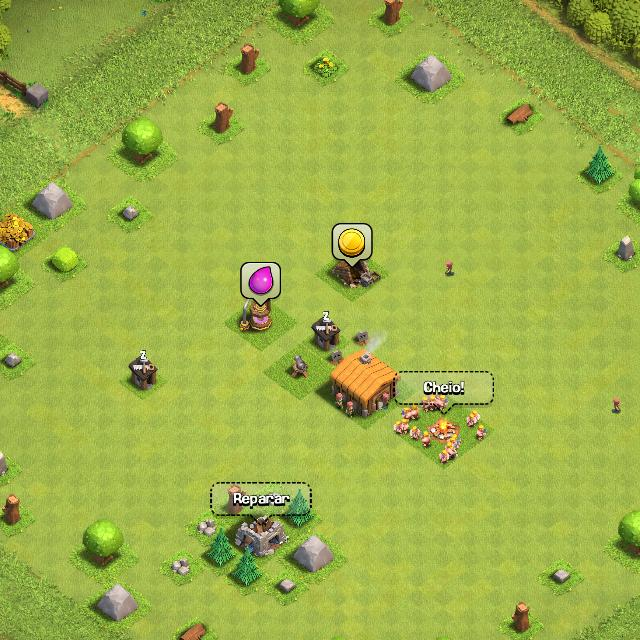Elixir: (242, 261, 280, 307)
coin: (332, 223, 373, 267)
